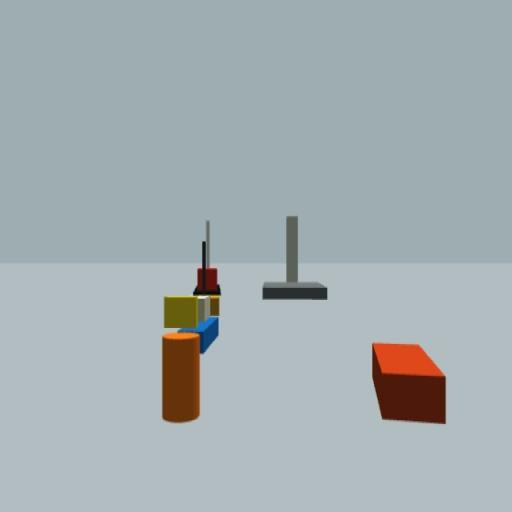buoy: (162, 294, 200, 425)
debris_container: (369, 340, 448, 427)
platform: (264, 215, 328, 302)
